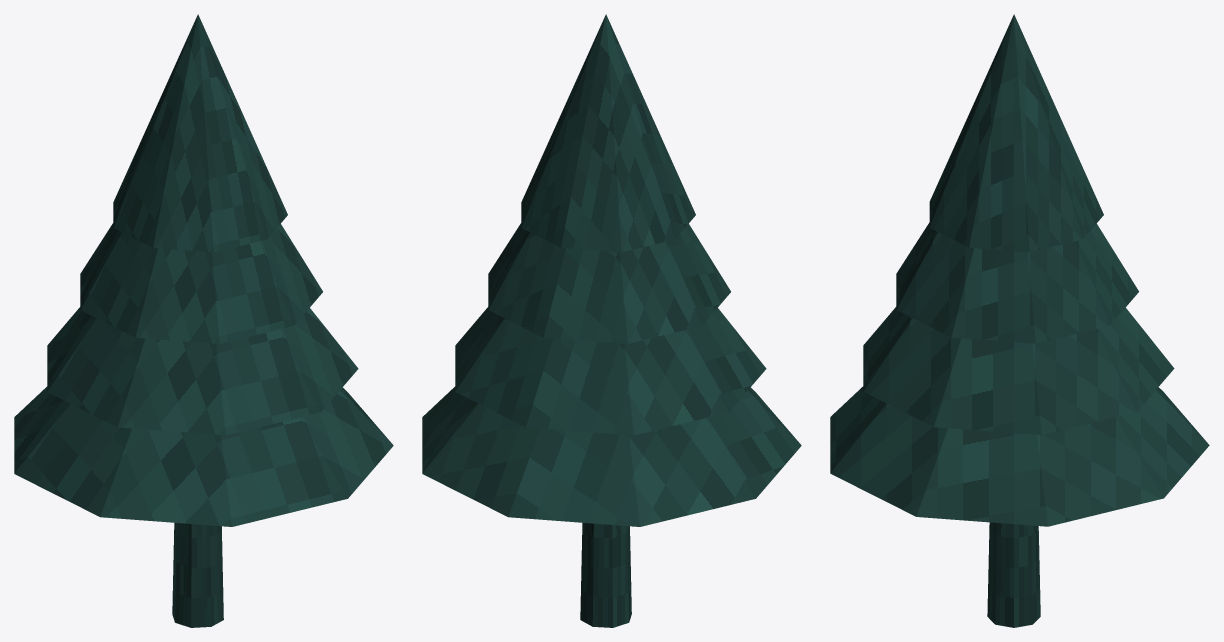
The model's file is pine_23.glb.
3 views of the same model, side by side, from view 1: azimuth 30°, elevation 25°; view 2: azimuth 150°, elevation 25°; view 3: azimuth 270°, elevation 25° (orthographic).
Visible parts, largest first — view 1: Needles, Needles.001, Needles.003, Needles.002, Trunk; view 2: Needles, Needles.001, Needles.003, Needles.002, Trunk; view 3: Needles, Needles.001, Needles.003, Needles.002, Trunk.
Part boxes in pixels (x1,y1,x2,y2): Needles: (14, 386, 393, 526); Needles.001: (47, 307, 358, 435); Needles.003: (113, 14, 287, 252); Needles.002: (80, 223, 322, 343); Trunk: (172, 522, 223, 627); Needles: (422, 386, 801, 526); Needles.001: (455, 307, 766, 435); Needles.003: (521, 14, 695, 252); Needles.002: (488, 223, 730, 343); Trunk: (580, 522, 631, 627); Needles: (830, 386, 1209, 526); Needles.001: (863, 307, 1174, 435); Needles.003: (929, 14, 1103, 252); Needles.002: (896, 222, 1138, 343); Trunk: (987, 522, 1040, 627).
Size of the model in its own units: 2.89 by 4.99 by 2.84.
1 material, 1 textured.
